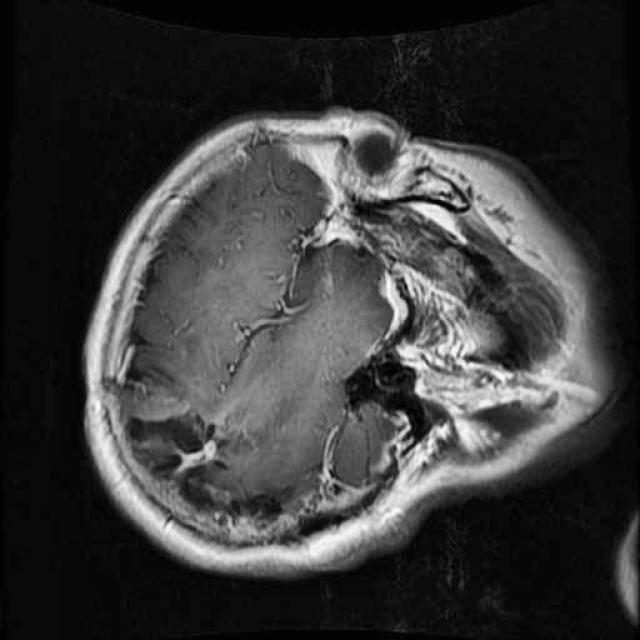Non-Tumor: (103, 391, 335, 556)
